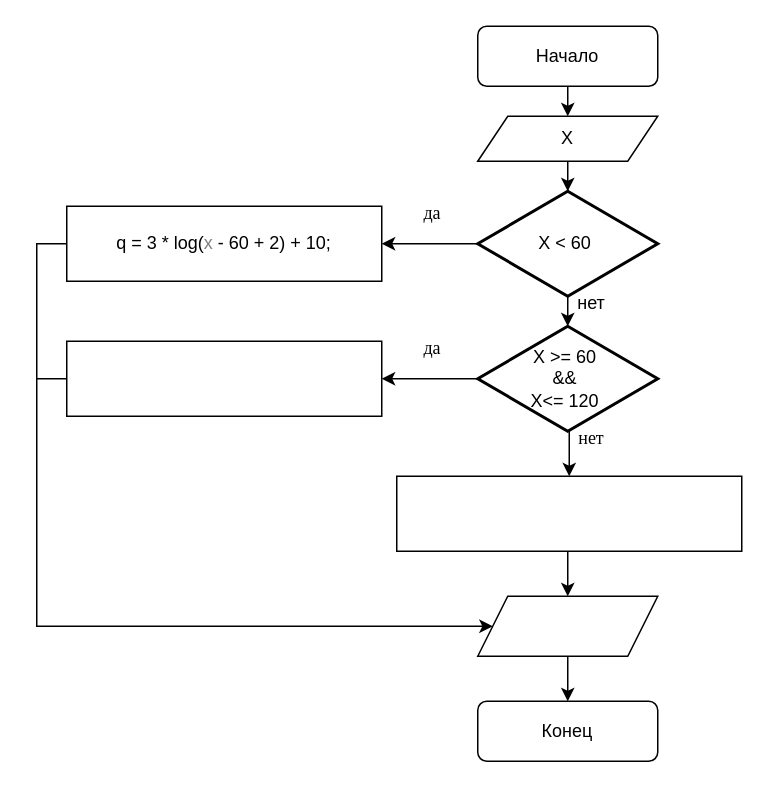
The diagram is 768 pixels wide and 788 high, and some of its shapes have lost their labels. Here are the shapes that lost their labels. From the top down, the centre of each, then its label:
At (223,378): "q = 2 * ( x - 90) + 48;".
At (568,513): "q = 5 * sqrt( x - 120 + 1) + 58;".
At (567,625): "X,Q".
